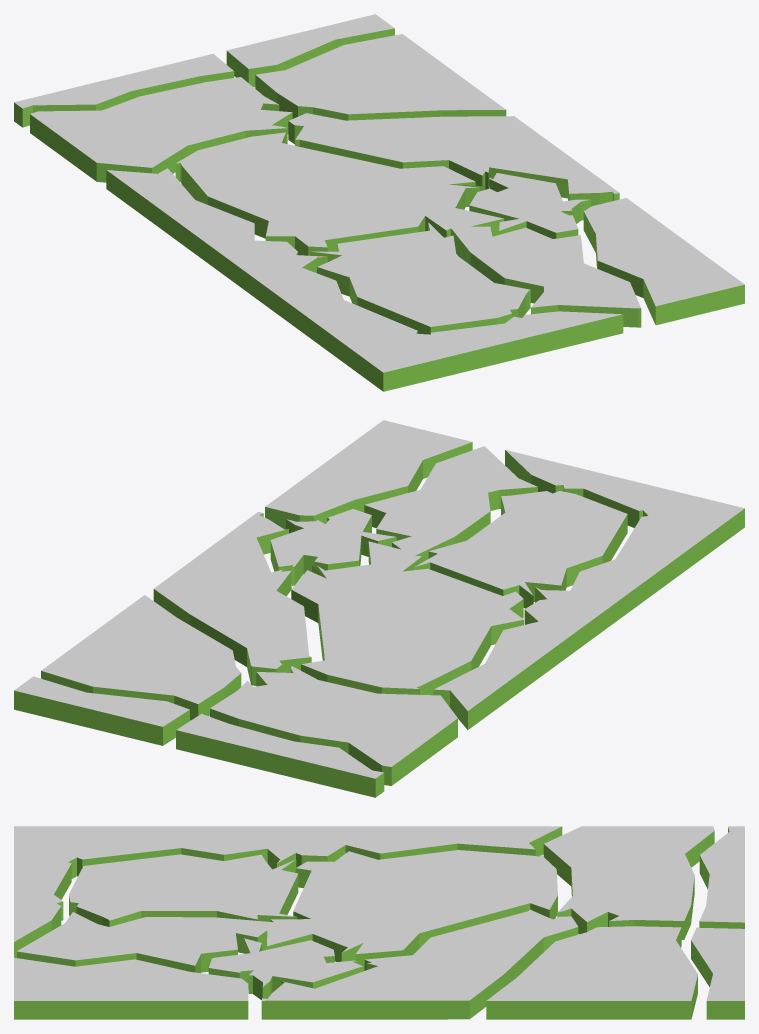
Rendered from fiNALFINALFINAL.fbx.
3 renders of one model, top to bottom at view 1: azimuth 30°, elevation 25°; view 2: azimuth 150°, elevation 25°; view 3: azimuth 270°, elevation 25°, orthographic.
Visible parts, largest first — view 1: Plane.006, Plane, Plane.004, Plane.007, Plane.005, Plane.008, Plane.002, Plane.001, Plane.009, Plane.003; view 2: Plane.006, Plane, Plane.004, Plane.007, Plane.005, Plane.008, Plane.002, Plane.001, Plane.003, Plane.009; view 3: Plane.006, Plane, Plane.007, Plane.008, Plane.004, Plane.005, Plane.002, Plane.009, Plane.003, Plane.001.
Part boxes in pixels (bbox=[...]): Plane.006: bbox=[175, 132, 641, 327]; Plane: bbox=[106, 168, 623, 391]; Plane.004: bbox=[30, 77, 292, 182]; Plane.007: bbox=[288, 113, 619, 206]; Plane.005: bbox=[309, 222, 530, 334]; Plane.008: bbox=[255, 34, 506, 120]; Plane.002: bbox=[583, 198, 744, 325]; Plane.001: bbox=[14, 53, 234, 127]; Plane.009: bbox=[469, 173, 590, 238]; Plane.003: bbox=[226, 14, 394, 87]; Plane.006: bbox=[291, 446, 537, 695]; Plane: bbox=[433, 450, 744, 729]; Plane.004: bbox=[210, 666, 457, 785]; Plane.007: bbox=[153, 512, 311, 685]; Plane.005: bbox=[414, 491, 627, 608]; Plane.008: bbox=[41, 595, 241, 720]; Plane.002: bbox=[265, 420, 472, 529]; Plane.001: bbox=[176, 714, 384, 797]; Plane.003: bbox=[14, 676, 189, 745]; Plane.009: bbox=[270, 509, 396, 585]; Plane.006: bbox=[17, 850, 557, 972]; Plane: bbox=[14, 826, 562, 957]; Plane.007: bbox=[261, 909, 578, 1019]; Plane.008: bbox=[486, 926, 697, 1019]; Plane.004: bbox=[543, 826, 714, 939]; Plane.005: bbox=[69, 854, 298, 926]; Plane.002: bbox=[14, 957, 248, 1019]; Plane.009: bbox=[208, 938, 363, 999]; Plane.003: bbox=[691, 927, 744, 1019]; Plane.001: bbox=[699, 826, 744, 928].
Size of the model in its own units: 179 by 9 by 316.
